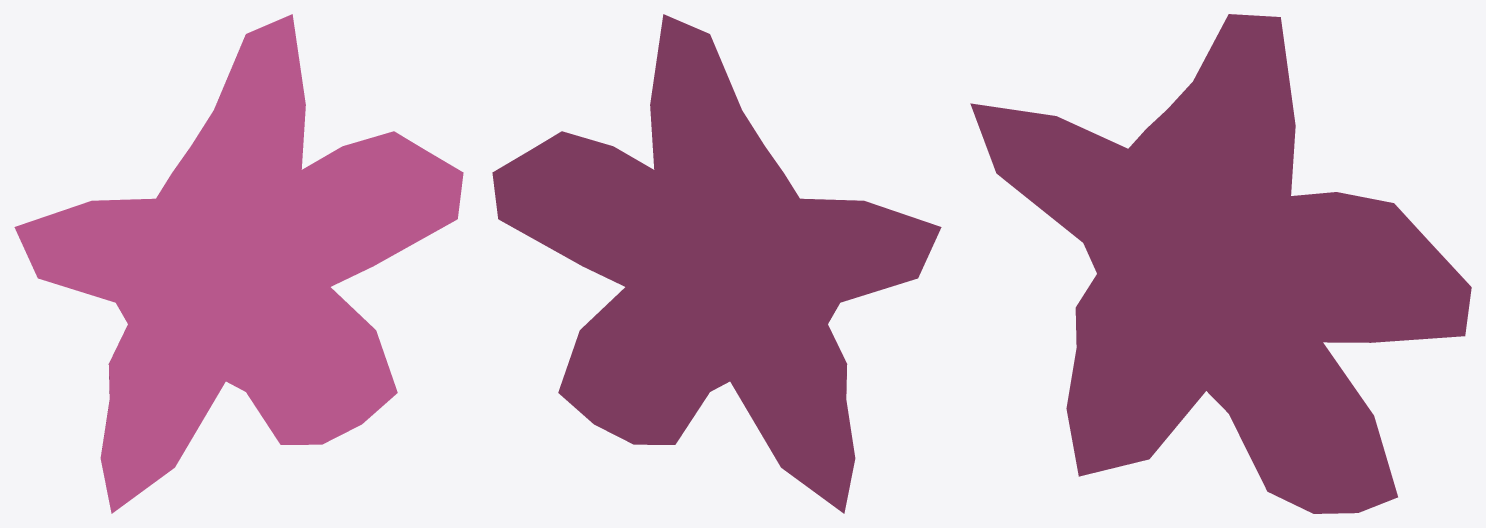
File: splat_pink.glb
3 views of the same model, side by side, from view 1: azimuth 30°, elevation 25°; view 2: azimuth 150°, elevation 25°; view 3: azimuth 330°, elevation 25° (orthographic). The views are drawn at different scales.
Visible parts, largest first — view 1: SM_PaintSplash; view 2: SM_PaintSplash; view 3: SM_PaintSplash.
Part boxes in pixels (x1,y1,x2,y2): SM_PaintSplash: [14, 14, 463, 513]; SM_PaintSplash: [492, 14, 941, 513]; SM_PaintSplash: [970, 14, 1471, 513].
Bounding box in the file's own units: 1.71 × 1.66 × 0.0005.
